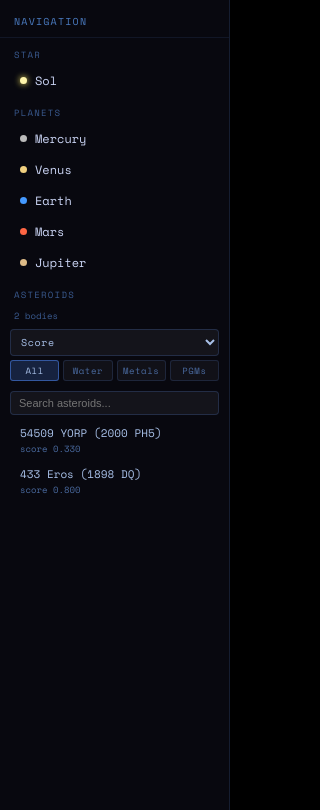
Scenario: NavigationSidebar › shows all asteroids again when search is cleared
In the search field: coordinates (114, 403) [10,391,219,415], type "YORP"
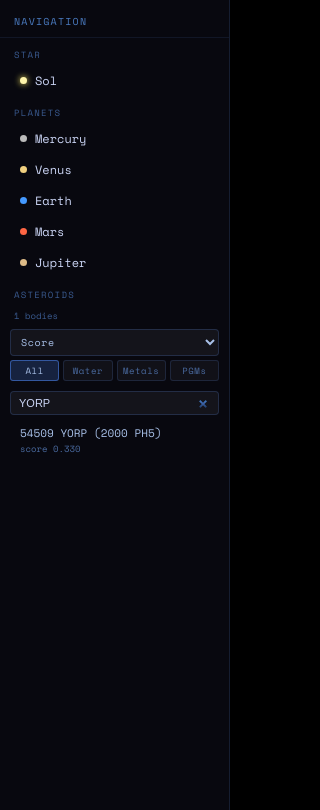
Clear the search field: coordinates (114, 403) [10,391,219,415]
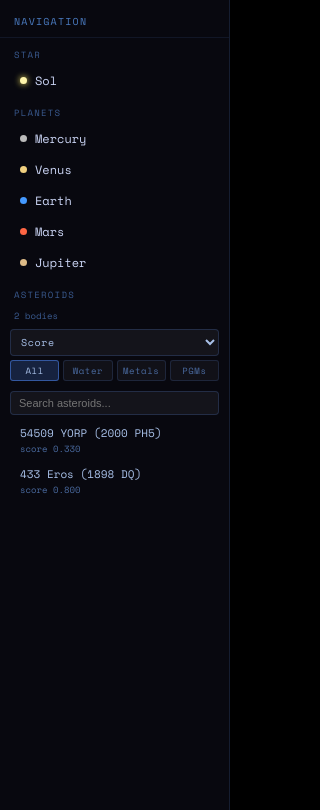
Expected: the text "54509 YORP (2000 PH5)" is shown, [20,425,161,441]
Now the text "433 Eros (1898 DQ)" is shown, box [20,466,141,482]
